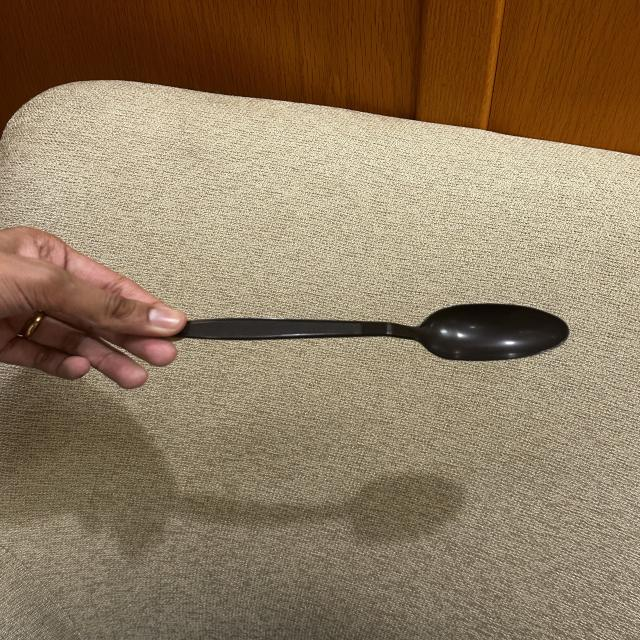spoon: (78, 246, 586, 415)
